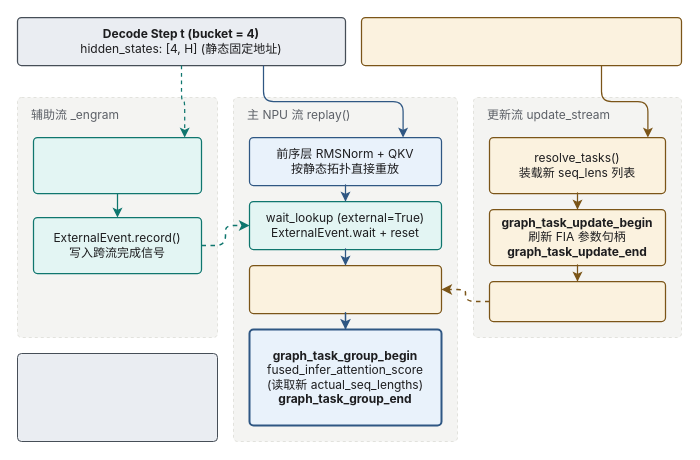
Some shapes in this 700 by 460 pixel diagram are drawn without their labels. The shapes that lost their labels are listed below. From the top down, each one's centre as x and y in pixels, then its label:
(x=521, y=41): Host 动态元数据变化 actual_seq_lengths: [17,33,65,129] → [18,34,66,130]
(x=117, y=165): prepare_engram_inputs() H2D 预取与有效掩码
(x=345, y=289): ExternalEvent.wait(stream) ExternalEvent.reset(stream)
(x=577, y=301): event.record(update_stream)
(x=117, y=397): 两大常见故障 1. 漏 update: 按旧长度读 KV 2. 漏 ExternalEvent: 跨流挂死
